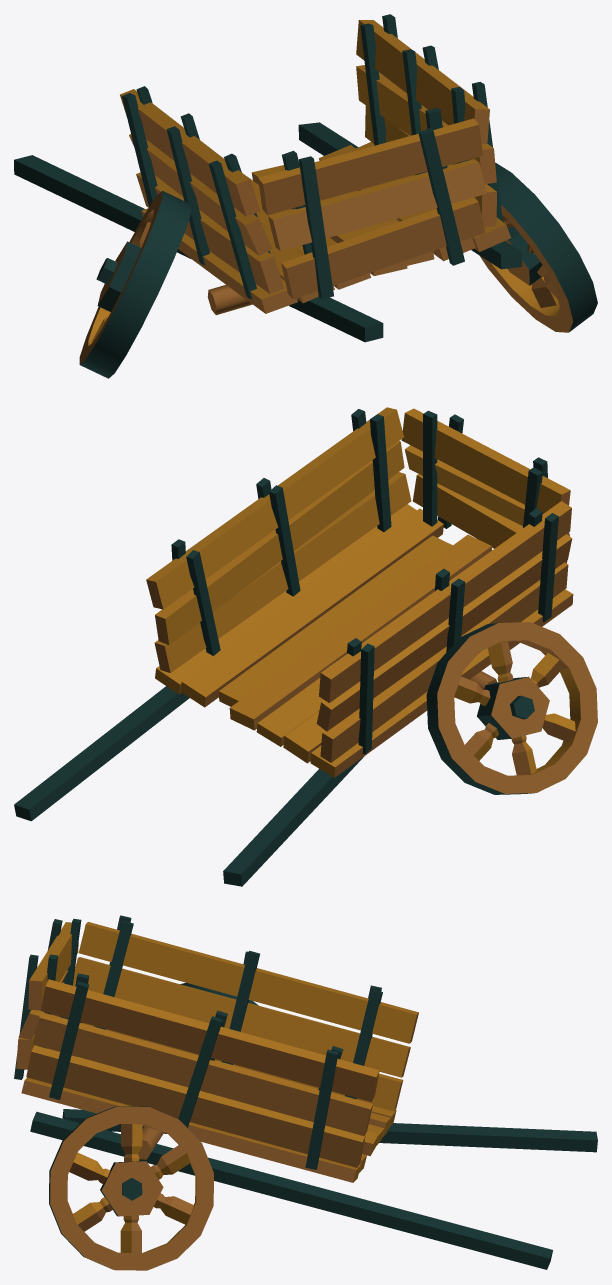
Rendered from carroca_quebrada.fbx.
3 views of the same model, one above another, from view 1: azimuth 30°, elevation 25°; view 2: azimuth 150°, elevation 25°; view 3: azimuth 270°, elevation 25° (orthographic). The views are drawn at different scales.
Visible parts, largest first — view 1: carroca_quebrada; view 2: carroca_quebrada; view 3: carroca_quebrada.
Boxes of the visible parts, x1,y1,x2,y2 form: carroca_quebrada: (14,14,597,378); carroca_quebrada: (14,407,597,886); carroca_quebrada: (14,915,597,1270).
Size of the model in its own units: 460 by 286 by 607.
